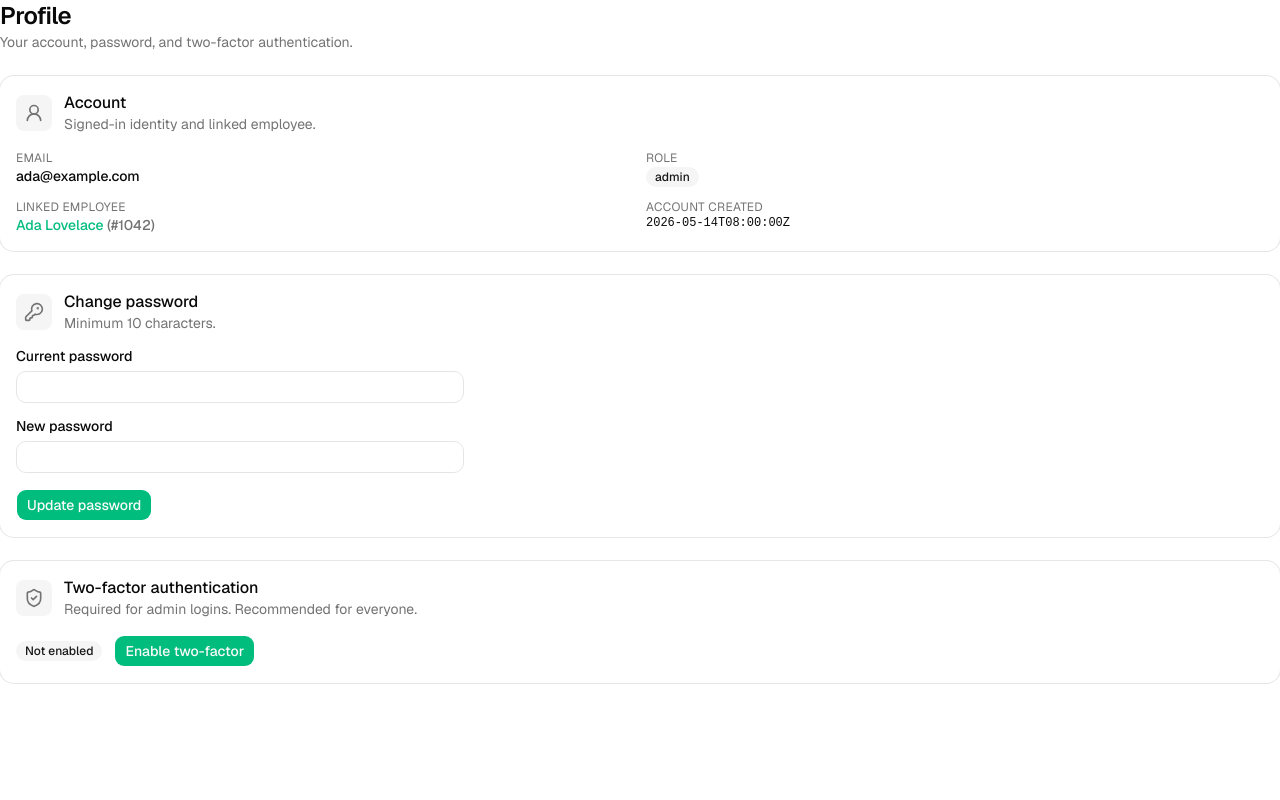
Profile page › opens the disable dialog and requires a password
Expected: the text "ada@example.com" is shown, [16, 167, 140, 185]
# First click hits enroll → server says 409 → page learns TOTP is on.
Click the button "Enable two-factor" at {"x": 185, "y": 651}, box [114, 635, 255, 667]
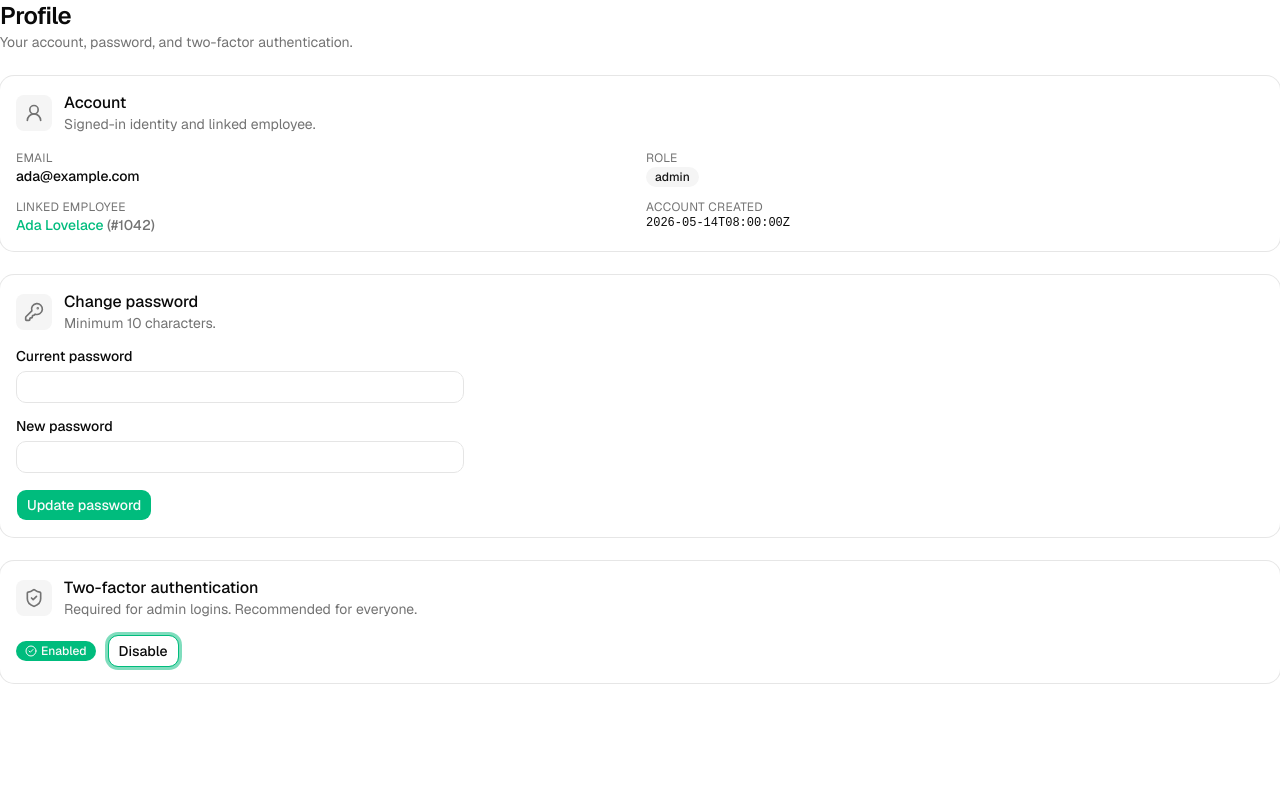
# Disable button now appears.
Click the button "Disable" at {"x": 143, "y": 651}, box [108, 635, 179, 667]
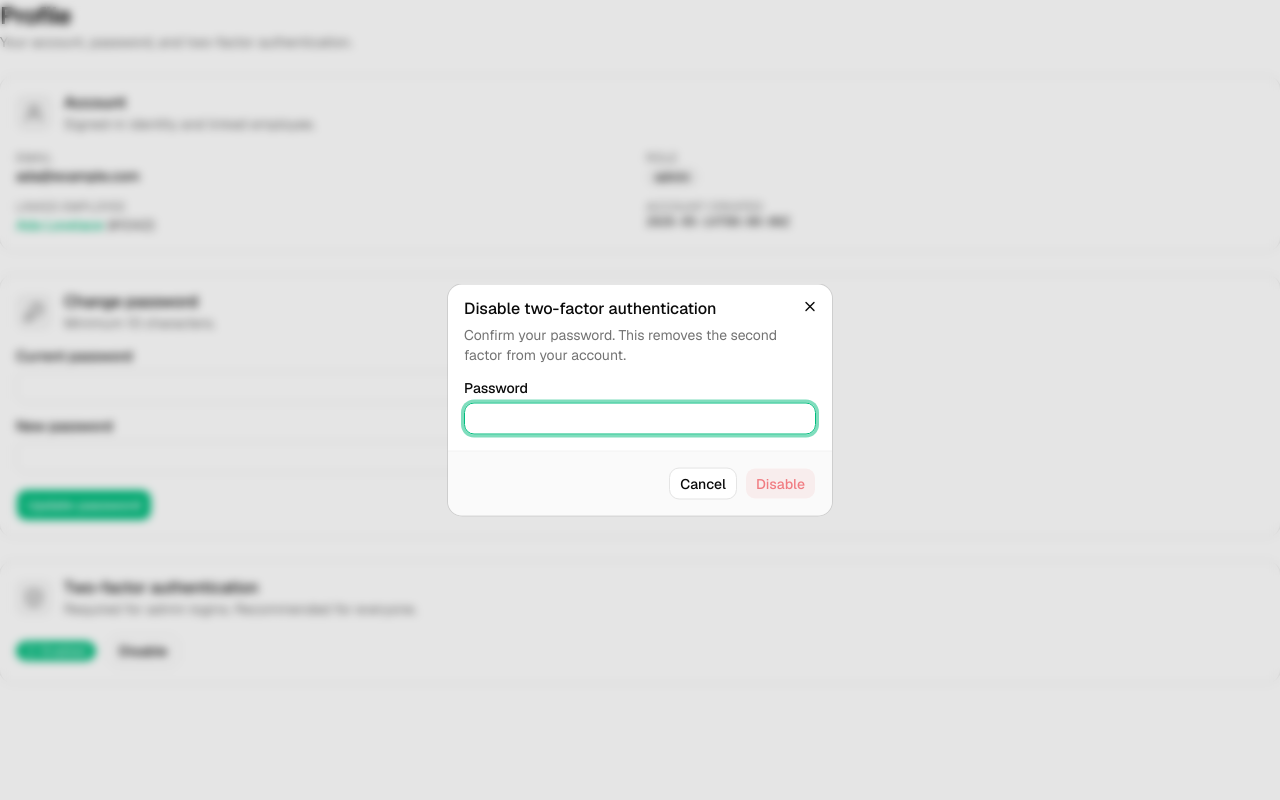
Expected: the text "Confirm your password" is shown, [464, 326, 777, 364]
